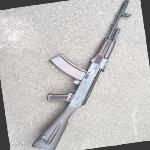Senapan: (19, 0, 142, 150)
